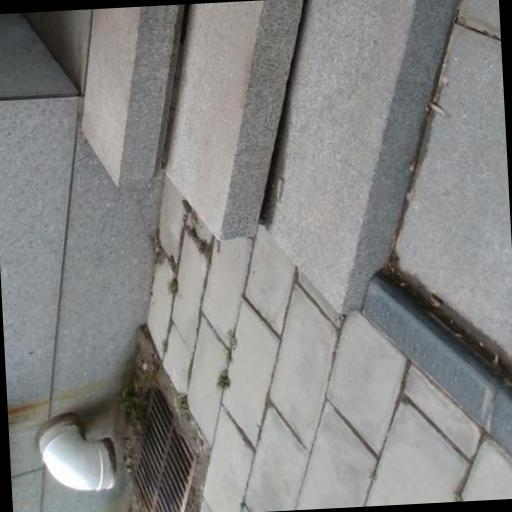stairs: (84, 0, 459, 311), (168, 0, 302, 239), (83, 4, 184, 184)
